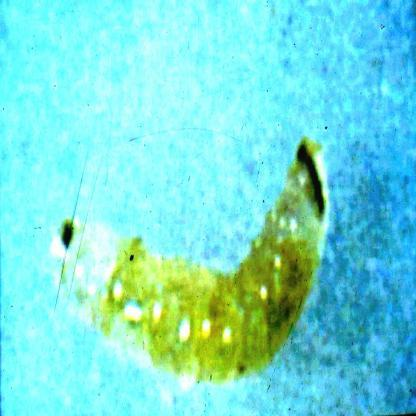whorl-maggot: (51, 131, 334, 388)
